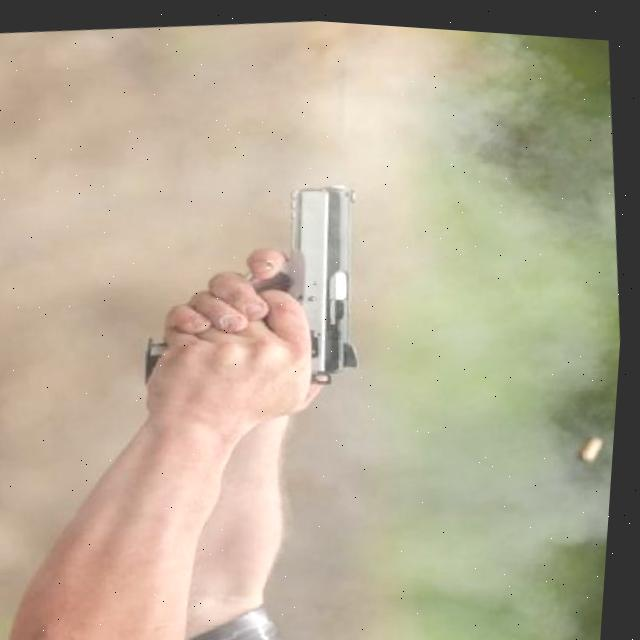gun: (130, 160, 384, 400)
